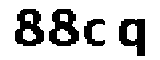8: (11, 7, 46, 52), (48, 6, 81, 50)
c: (83, 17, 107, 49)
q: (118, 17, 148, 60)
